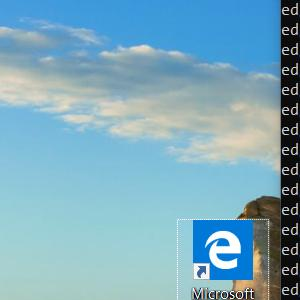edge: (193, 220, 253, 280)
